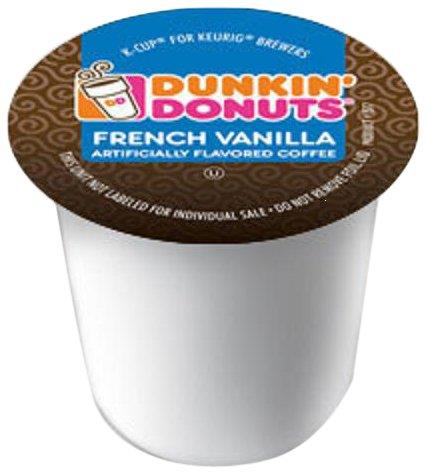Dunkin_Donuts: (73, 58, 367, 123)
